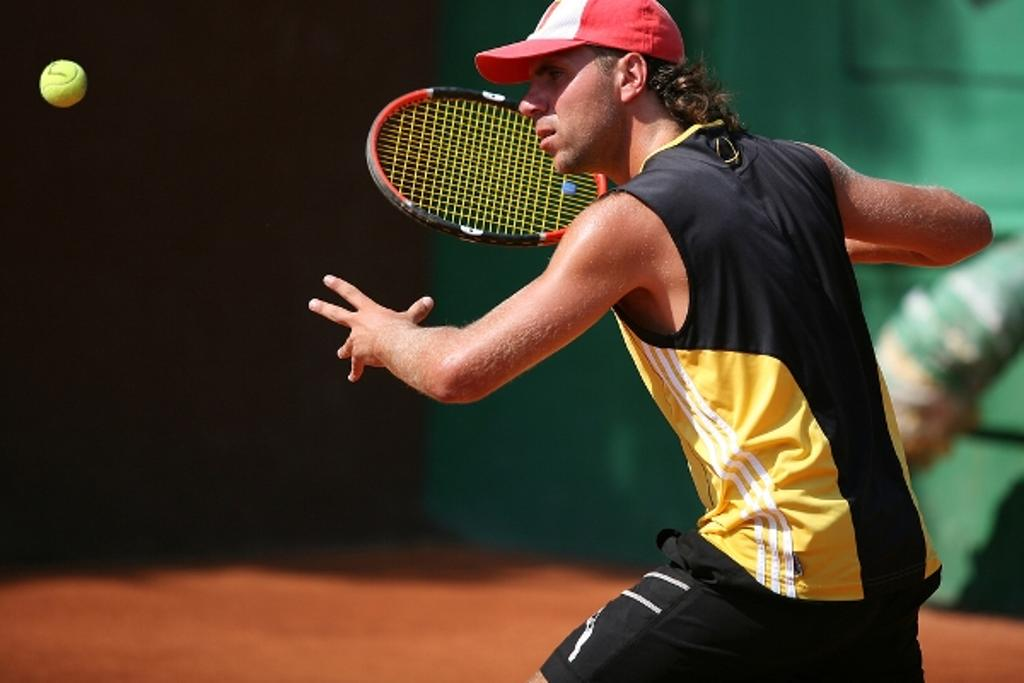face: (520, 58, 612, 174)
